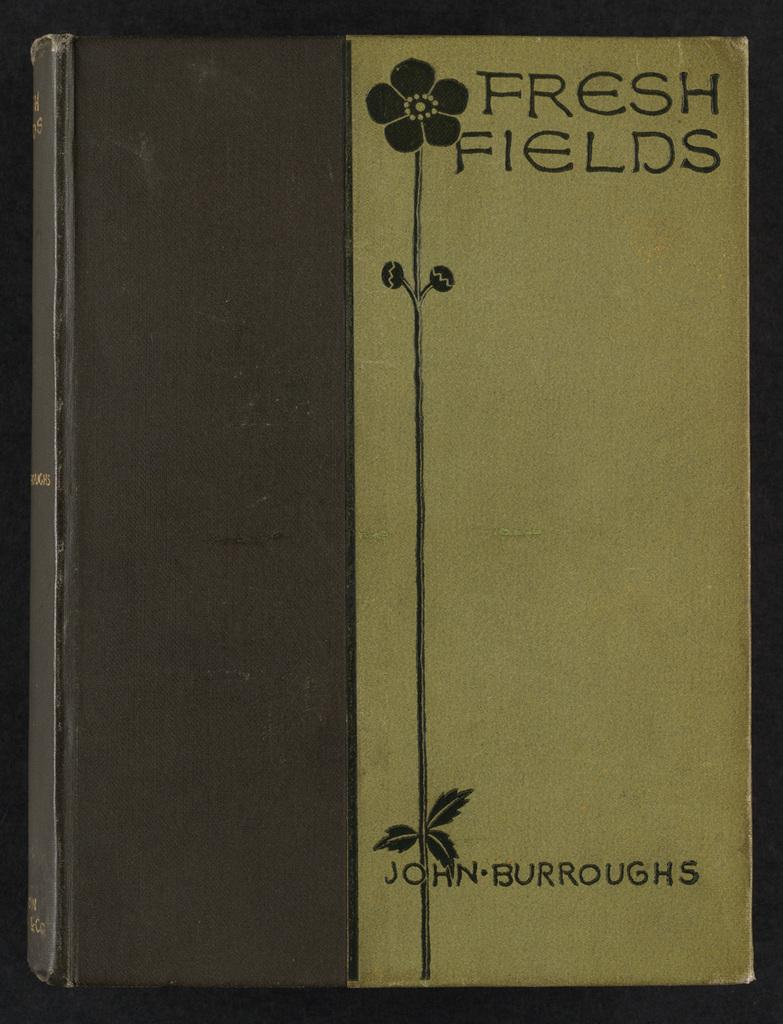book: (27, 32, 754, 991)
